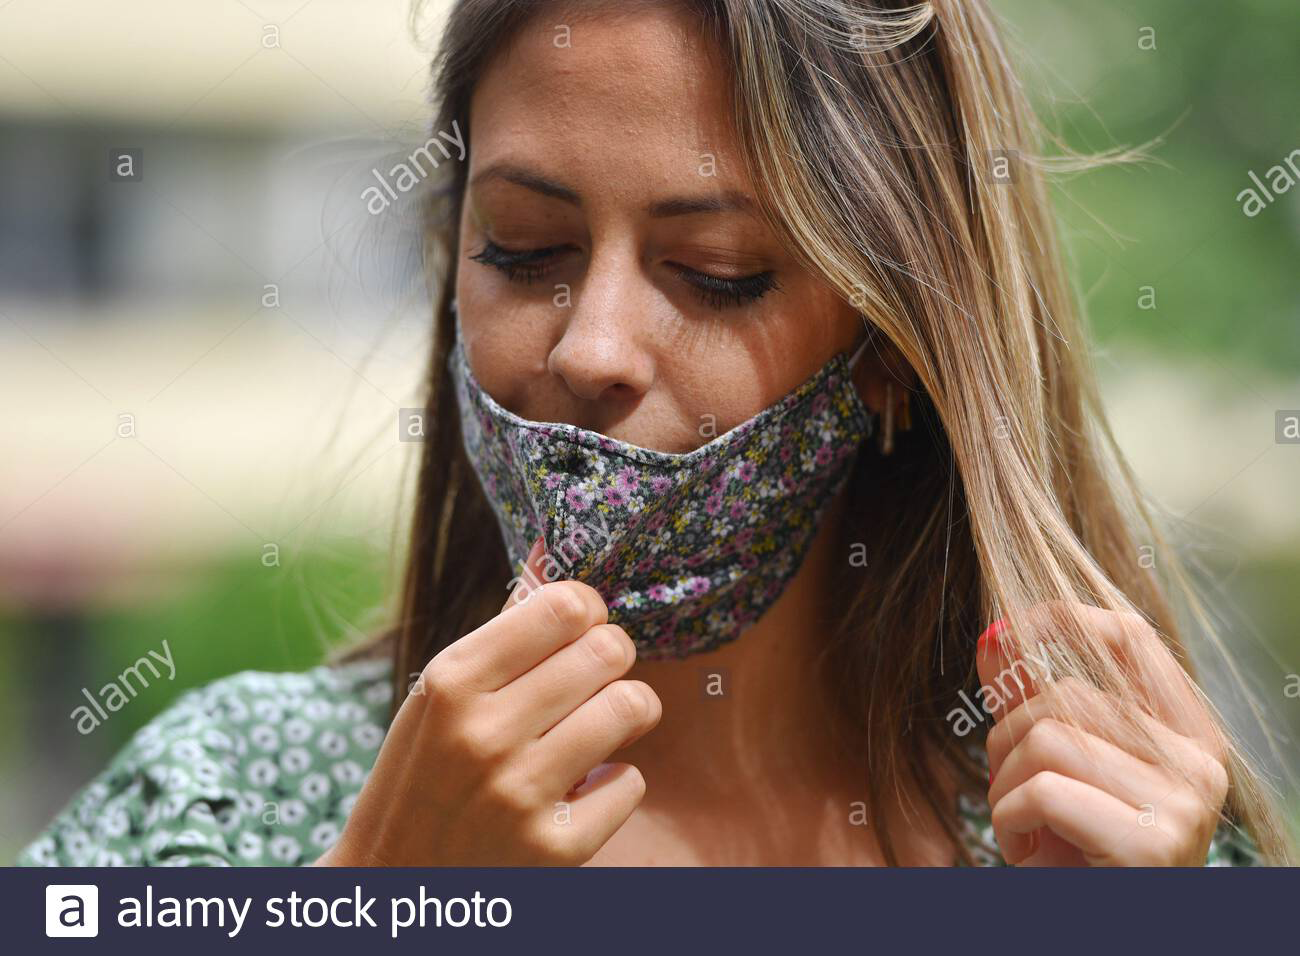mask_weared_incorrect: (448, 154, 862, 650)
